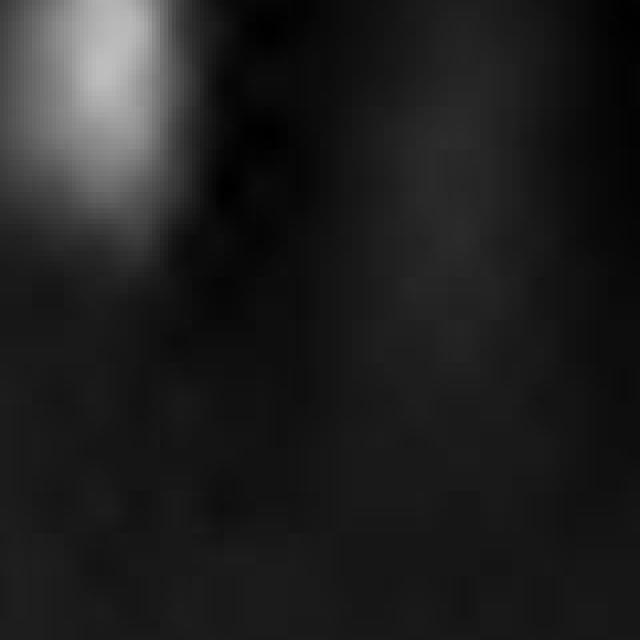person: (1, 1, 233, 262)
